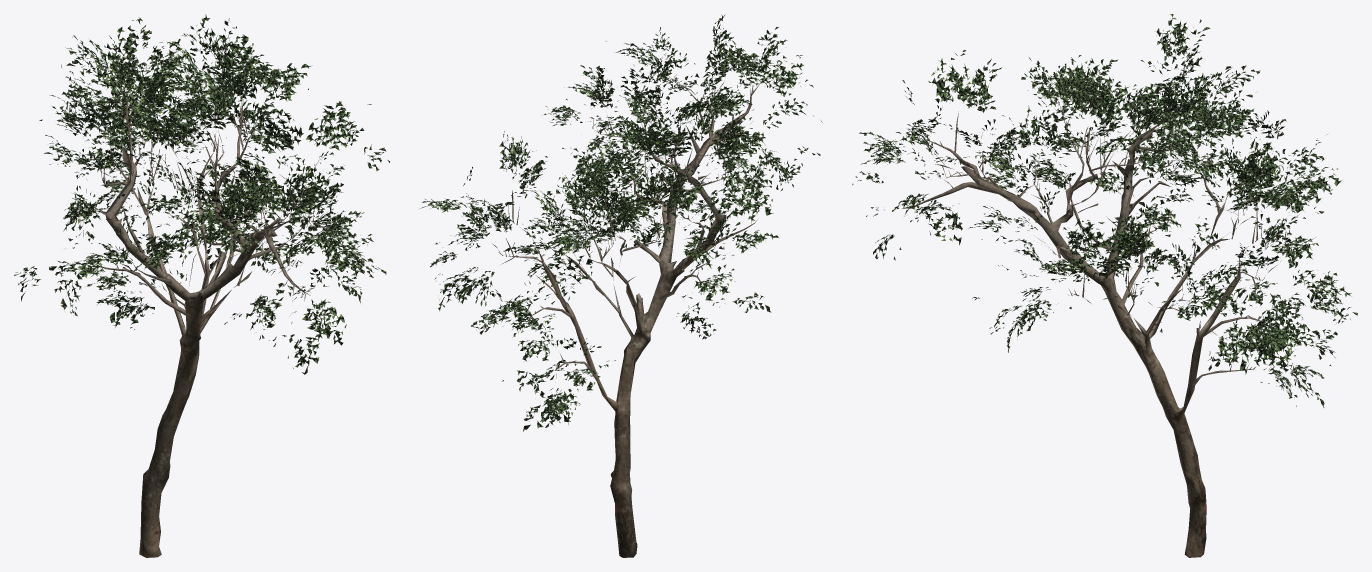
File: tree_small_02.glb
The picture shows the model from 3 angles, left to right: view 1: azimuth 30°, elevation 25°; view 2: azimuth 150°, elevation 25°; view 3: azimuth 270°, elevation 25°; orthographic projection. The views are drawn at different scales.
Visible parts, largest first — view 1: tree_small_02_LOD0; view 2: tree_small_02_LOD0; view 3: tree_small_02_LOD0.
Boxes of the visible parts, bbox=[...] form: tree_small_02_LOD0: bbox=[14, 14, 389, 557]; tree_small_02_LOD0: bbox=[420, 14, 822, 557]; tree_small_02_LOD0: bbox=[852, 14, 1357, 557].
Size of the model in its own units: 2.89 by 4.54 by 4.15.
Materials: 3 (3 with a texture image).
